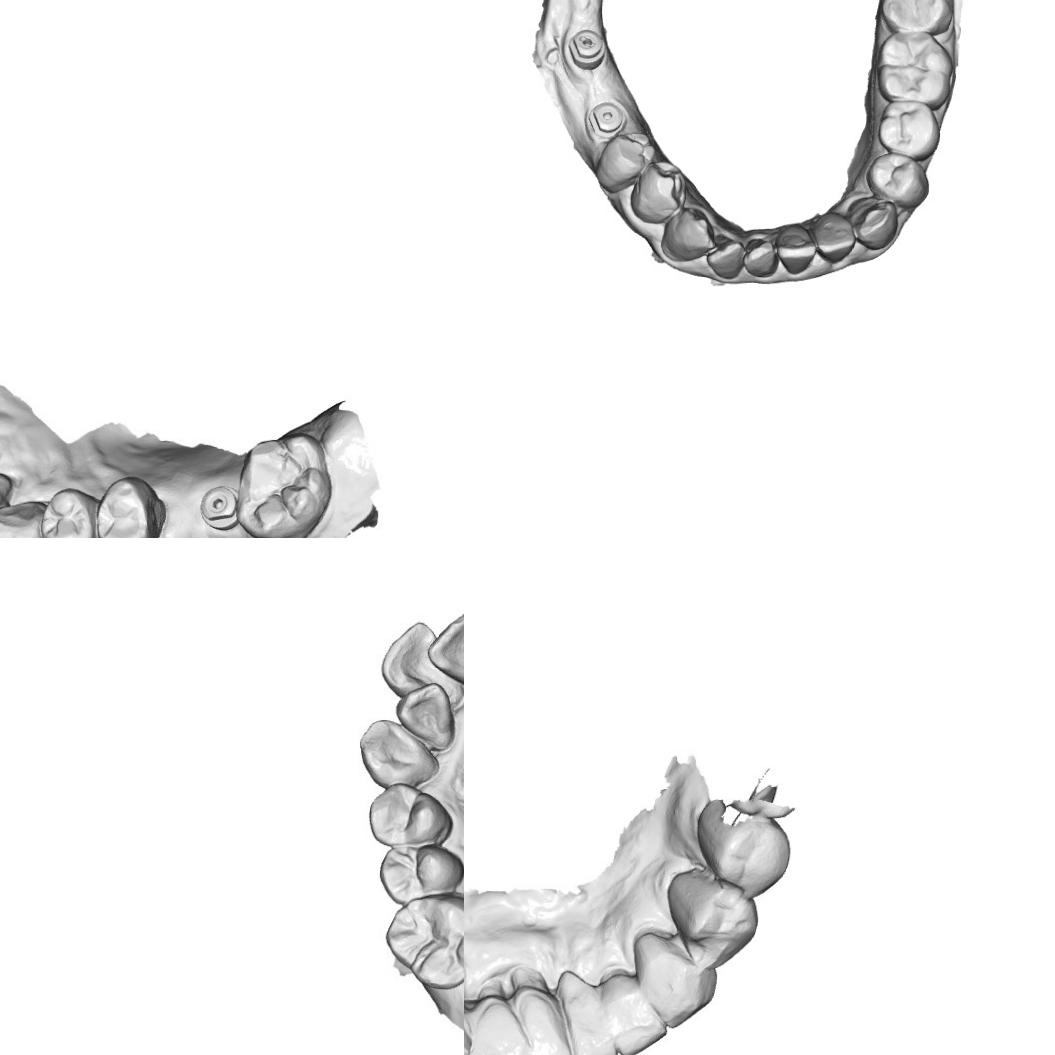canine: (632, 930, 718, 1030), (356, 719, 438, 790), (658, 208, 714, 266), (850, 199, 900, 252), (0, 498, 59, 538)
implant: (192, 477, 238, 533), (582, 101, 629, 138)
implant_minus: (560, 23, 609, 72)
incisor: (384, 625, 462, 708), (602, 966, 667, 1055), (556, 970, 620, 1055), (510, 979, 575, 1055), (464, 986, 533, 1055), (402, 686, 455, 749), (808, 211, 857, 265), (431, 610, 464, 687), (773, 222, 818, 278), (702, 240, 746, 284), (740, 235, 781, 282)
molar: (238, 436, 333, 538), (383, 892, 464, 990), (875, 30, 957, 106), (876, 0, 956, 35)
premolar: (688, 807, 794, 896), (664, 868, 760, 966), (371, 784, 450, 852), (379, 840, 463, 903), (875, 98, 943, 161), (627, 158, 689, 226), (594, 127, 658, 192), (865, 150, 931, 205), (99, 480, 161, 538), (42, 486, 107, 538)
